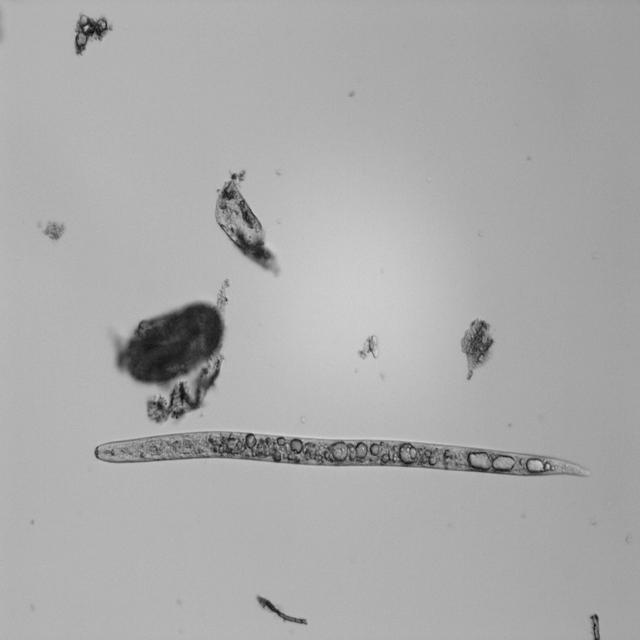Radopholus: (78, 423, 599, 480)
